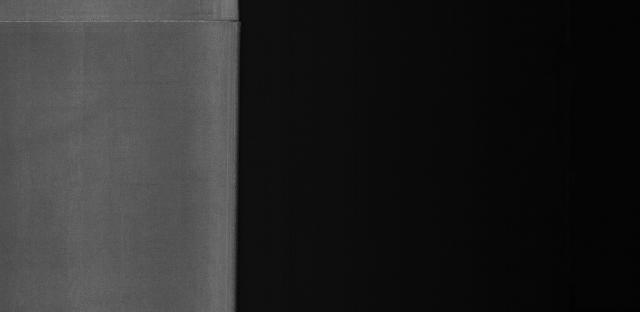welding_line: (0, 9, 257, 36)
